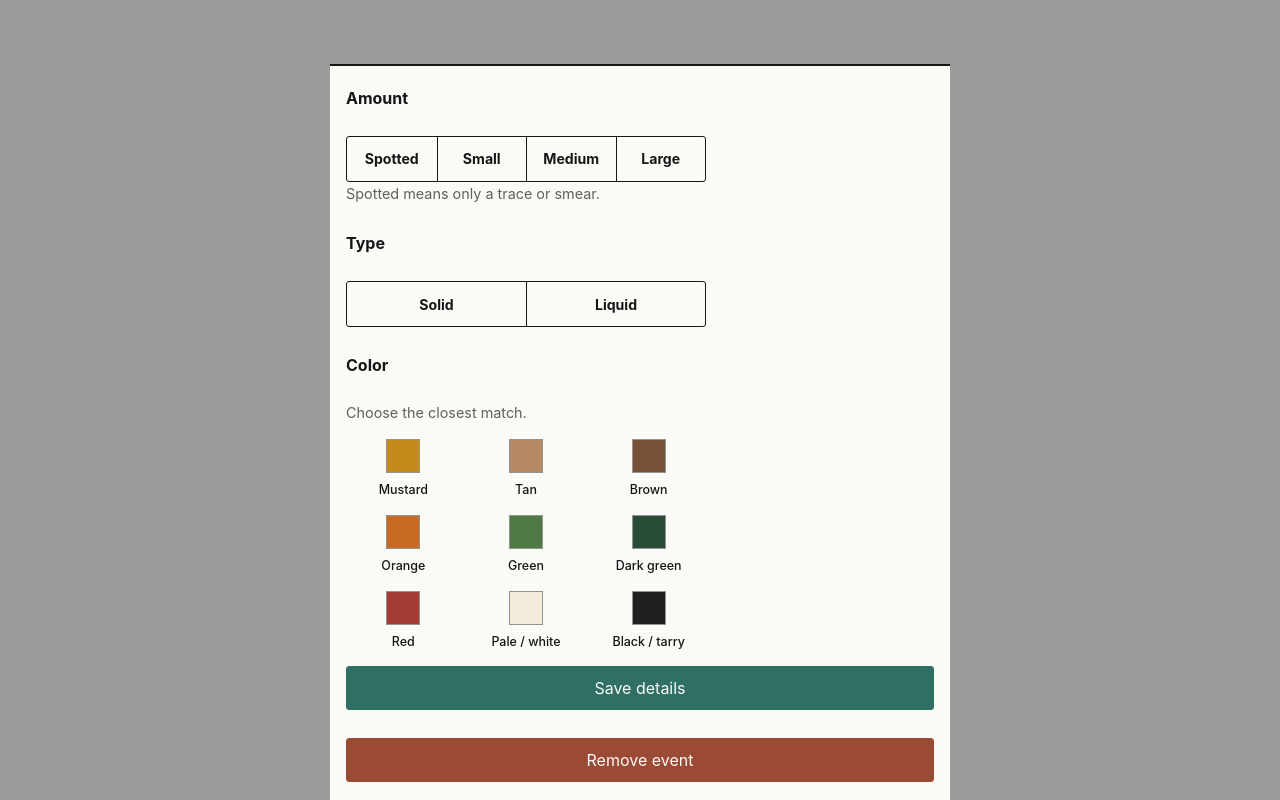
Test: Poop details › shows guidance for attention colors and lets the parent clear a choice
The image size is (1280, 800).
(page scrolled)
Click the radio button named "poop-color".
click(526, 617)  # box [491,586,561,649]
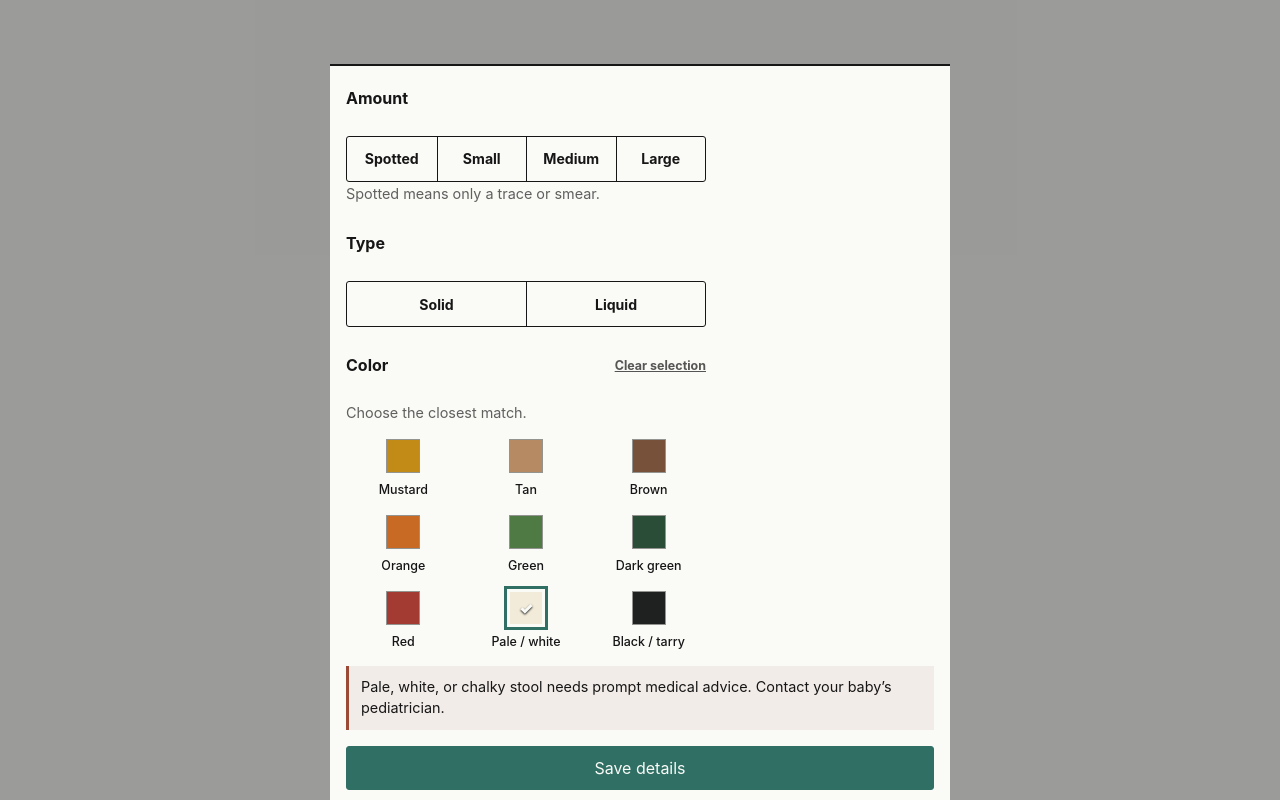
Expected: the text "Pale, white, or chalky stool needs prompt medical advice." is shown, [361,678,892,716]
Click the button with class "clear-selection".
click(660, 365)  # box [615,343,706,387]
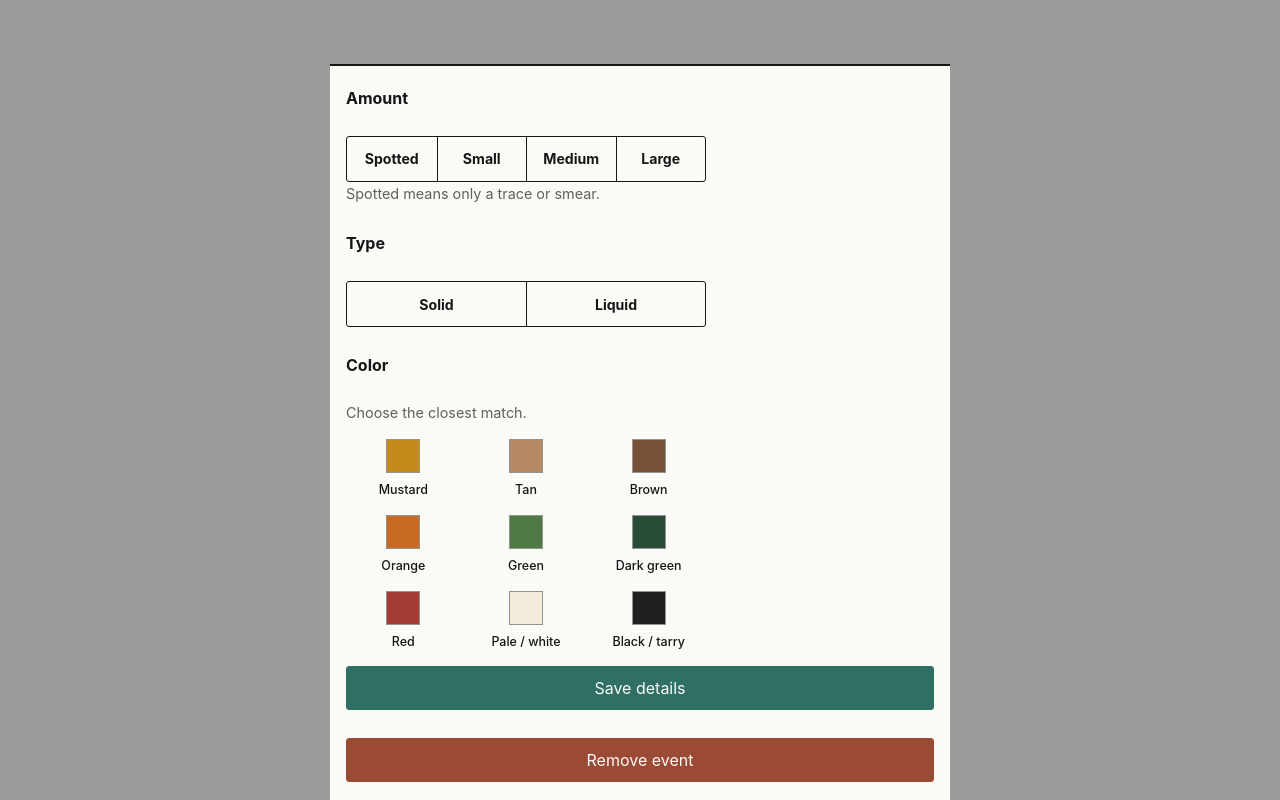
Expected: the text "Pale, white, or chalky stool needs prompt medical advice." is gone
